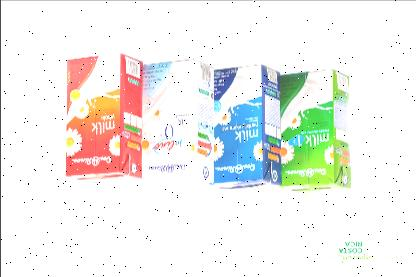Others: (63, 50, 144, 186), (280, 68, 354, 198), (141, 55, 214, 185), (208, 66, 280, 196)
